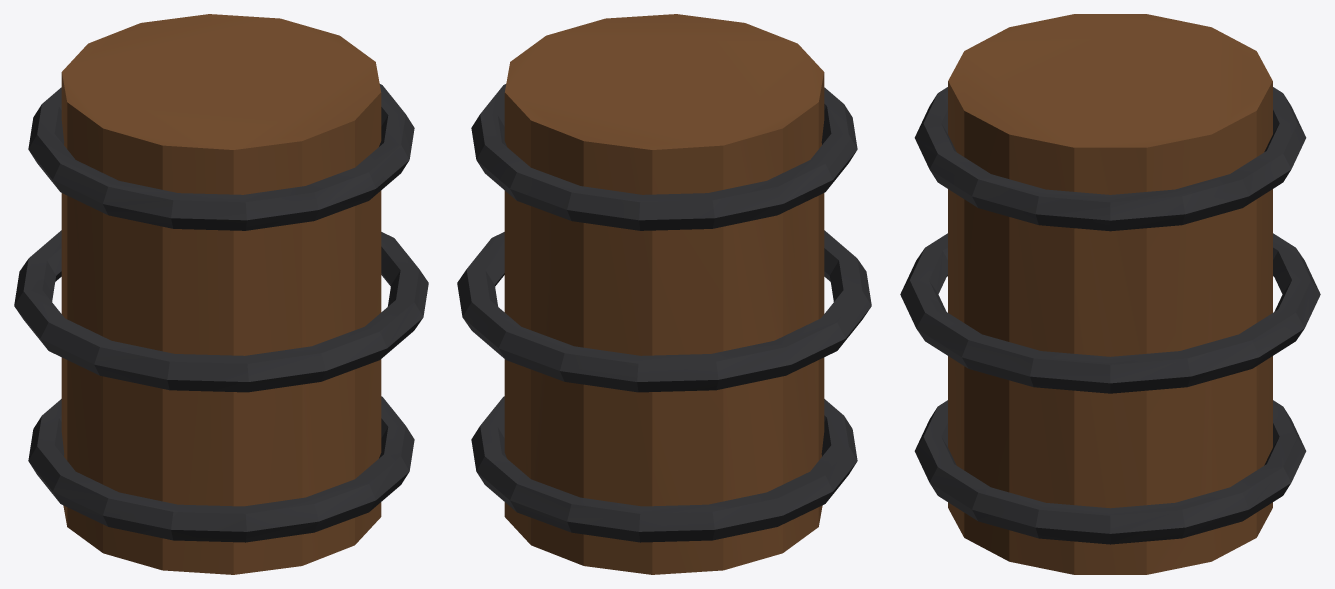
The model's file is barrel.glb.
3 renders of one model, left to right at view 1: azimuth 30°, elevation 25°; view 2: azimuth 150°, elevation 25°; view 3: azimuth 270°, elevation 25°, orthographic.
Parts seen in each view (by area): view 1: barrel; view 2: barrel; view 3: barrel.
Boxes of the visible parts, x1,y1,x2,y2 form: barrel: (14,14,428,574); barrel: (457,14,871,574); barrel: (900,14,1320,574).
Bounding box in the file's own units: 0.803 × 0.9 × 0.803.
